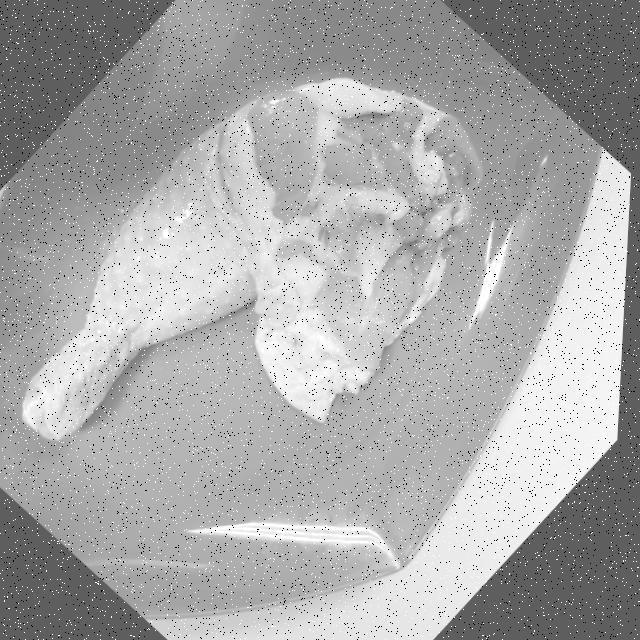quater: (16, 79, 472, 462)
